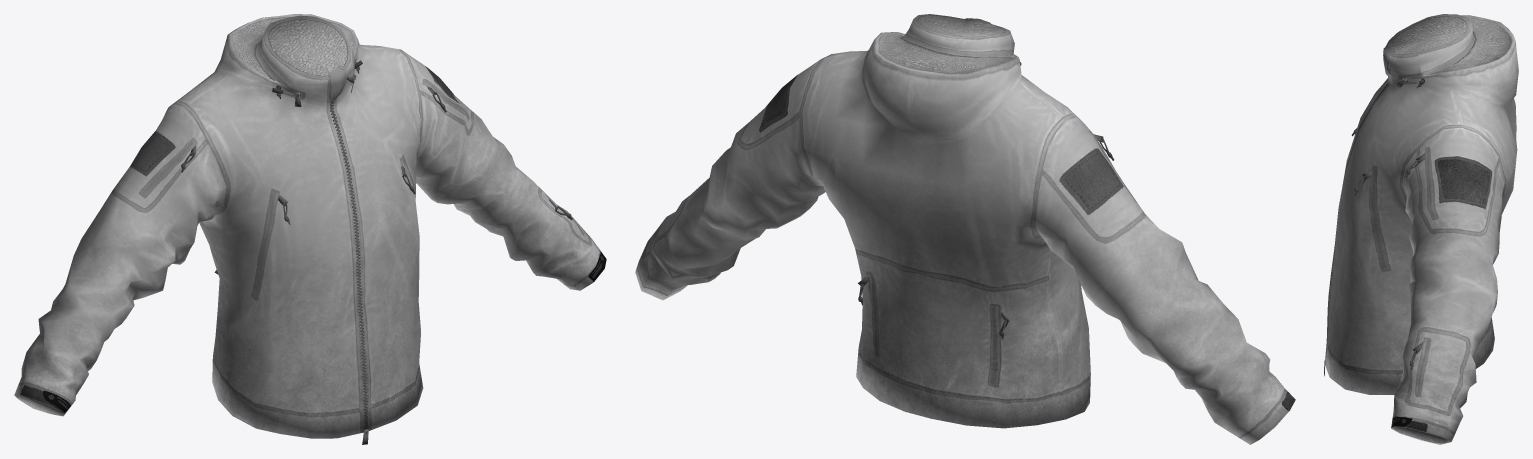
Rendered from SurvivorMale_Chest_Jacket_Tactical_LOD0.glb.
3 renders of one model, left to right at view 1: azimuth 30°, elevation 25°; view 2: azimuth 150°, elevation 25°; view 3: azimuth 270°, elevation 25°, orthographic. The views are drawn at different scales.
Parts seen in each view (by area): view 1: Hoodie; view 2: Hoodie; view 3: Hoodie.
Part boxes in pixels (box(x1,y1,x2,y2)): Hoodie: box(14, 14, 606, 444); Hoodie: box(635, 14, 1295, 444); Hoodie: box(1324, 14, 1518, 444).
Bounding box in the file's own units: 1.15 × 0.6987 × 0.3534.
Materials: 1 (1 with a texture image).
